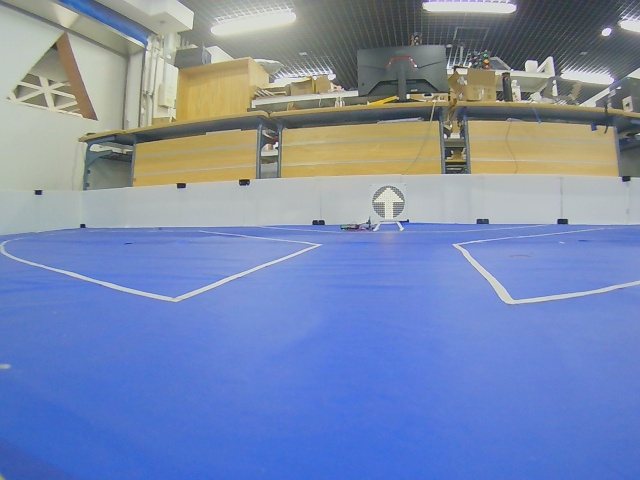straight_yellow: (372, 186, 405, 219)
